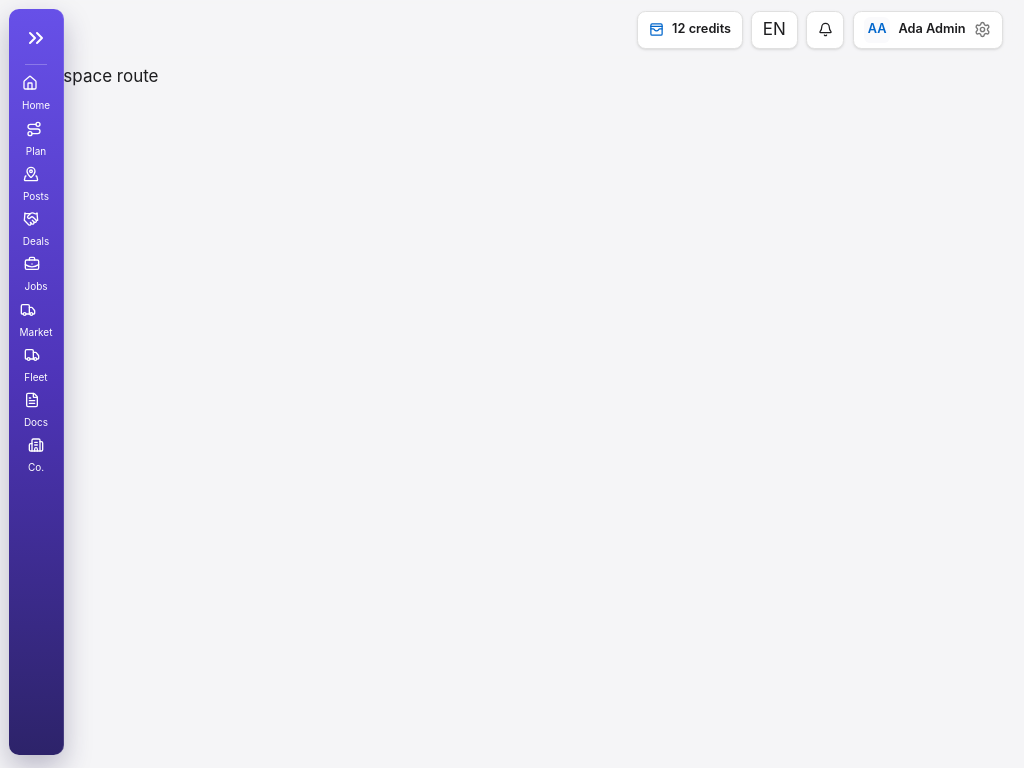
Test: AppShell navigation › closes the secondary panel while leaving the dark rail available
The image size is (1024, 768).
Click the button named "Pin sidebar": click(36, 38) 17,21 -> 55,55
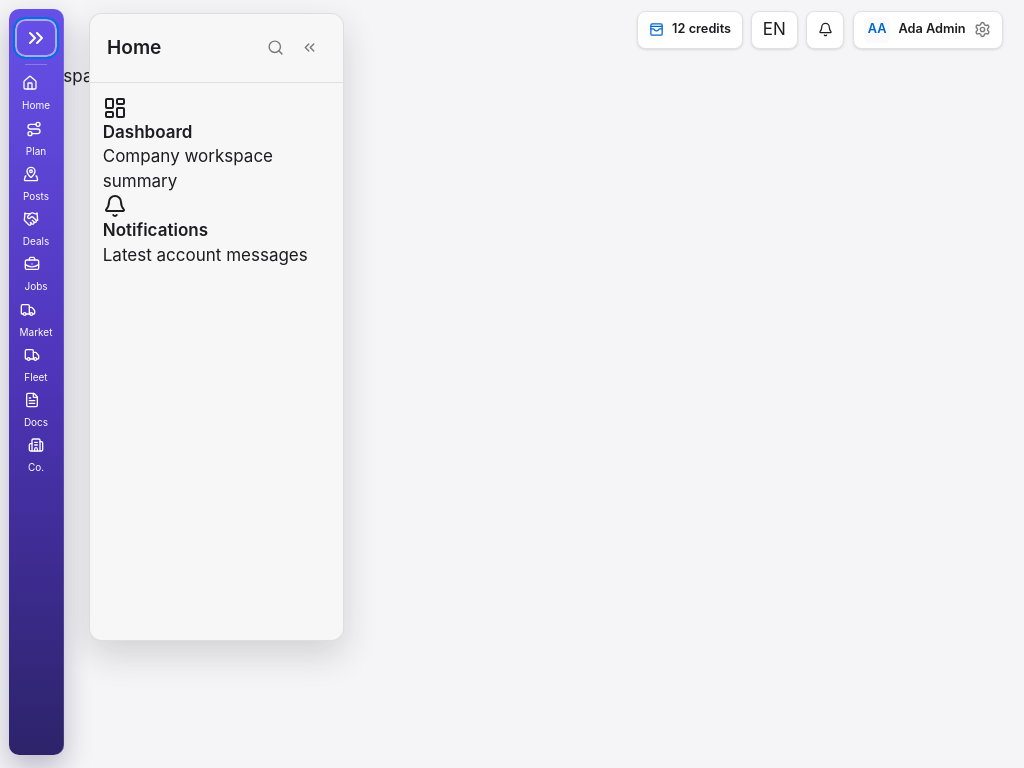
Click the button named "Close sidebar": click(309, 48) 292,31 -> 326,65
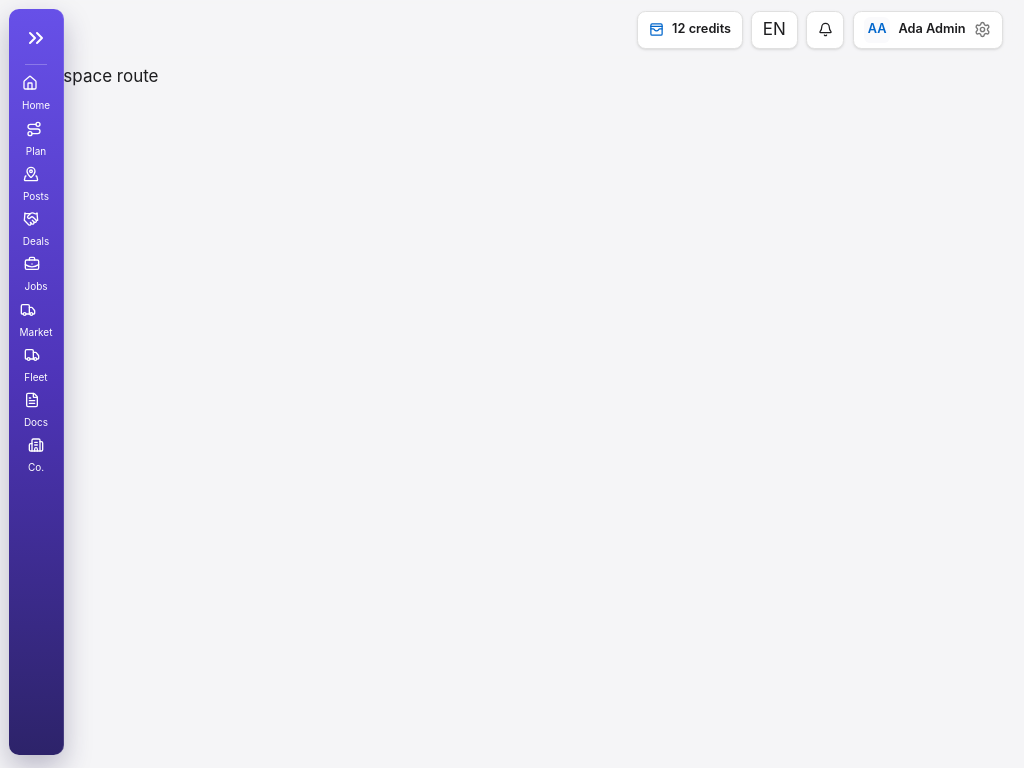
Expected: the button with aria-label "Open Planning" is shown, 26,121 -> 46,162
Expected: the element with test id "secondary-nav-panel" is gone
